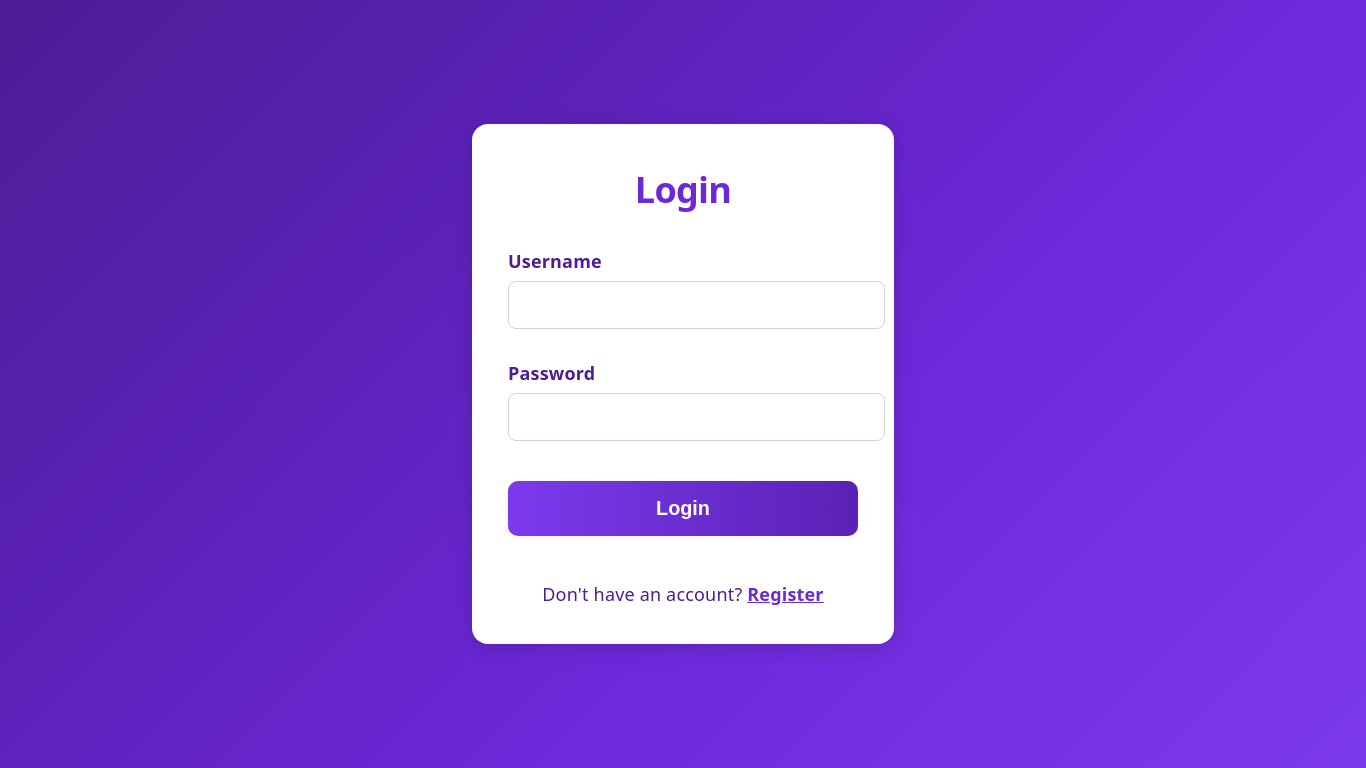
Test: Login Page › validates required fields
Click the button "Login" at (683, 509), box [508,481,858,536]
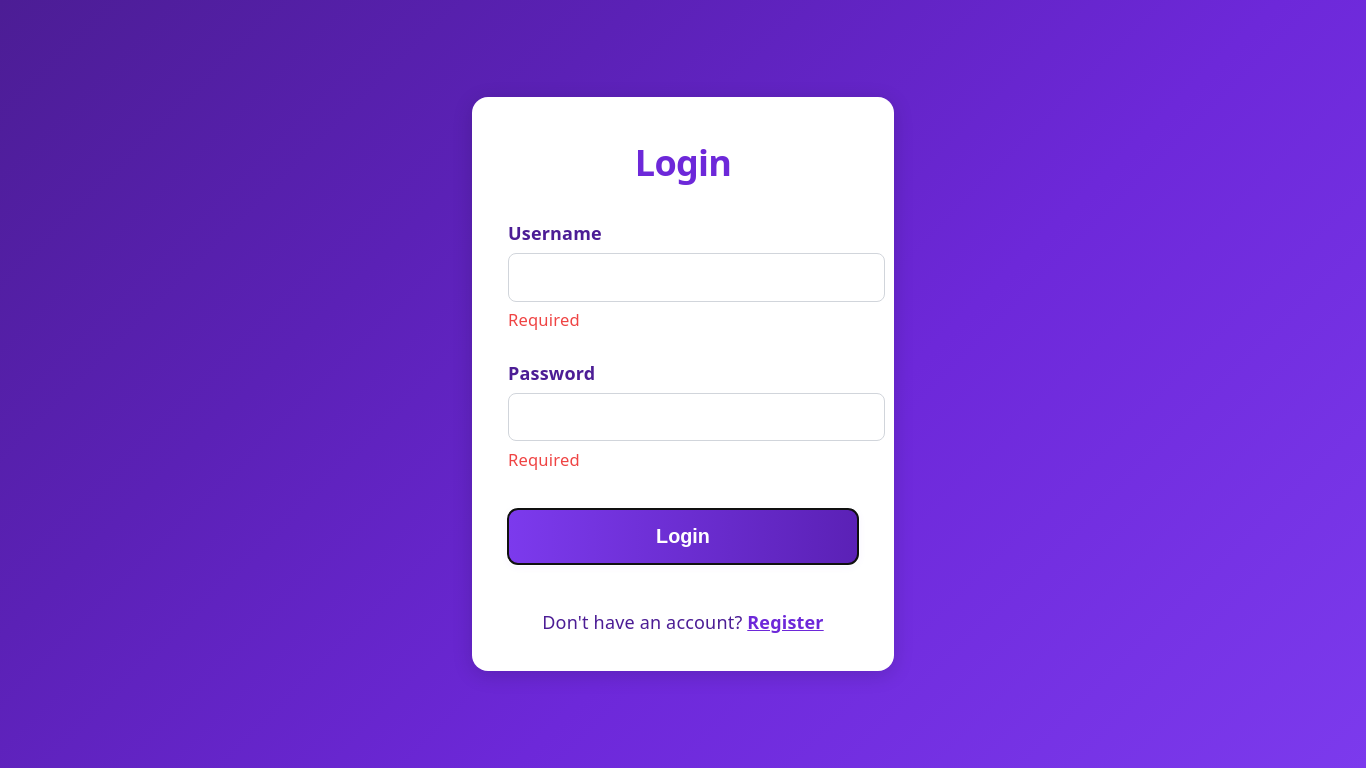
Result: the text "Required" is shown 2 times at [508,308,580,331]; [508,448,580,471]
